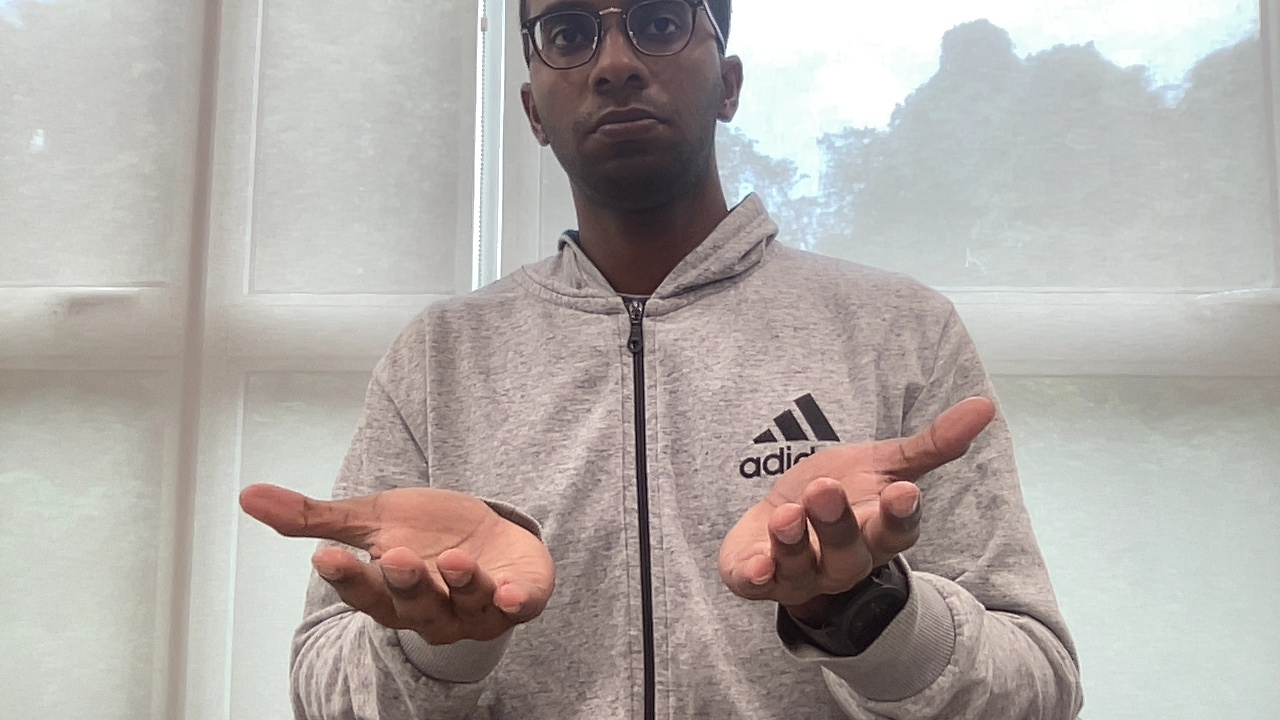give: (232, 390, 1010, 651)
